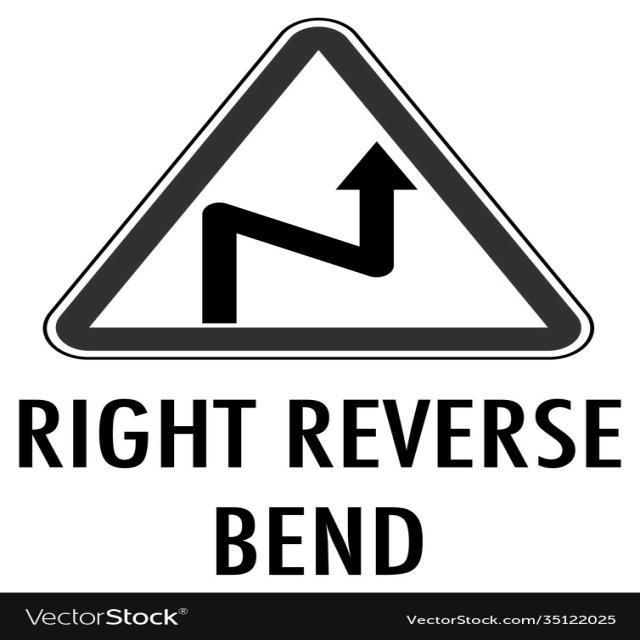right reverse bend: (45, 16, 599, 369)
